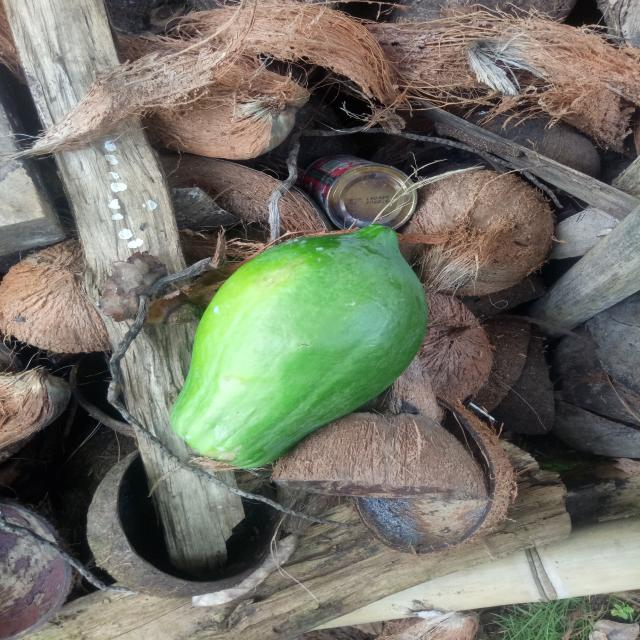Pepaya unrippen: (170, 216, 428, 470)
